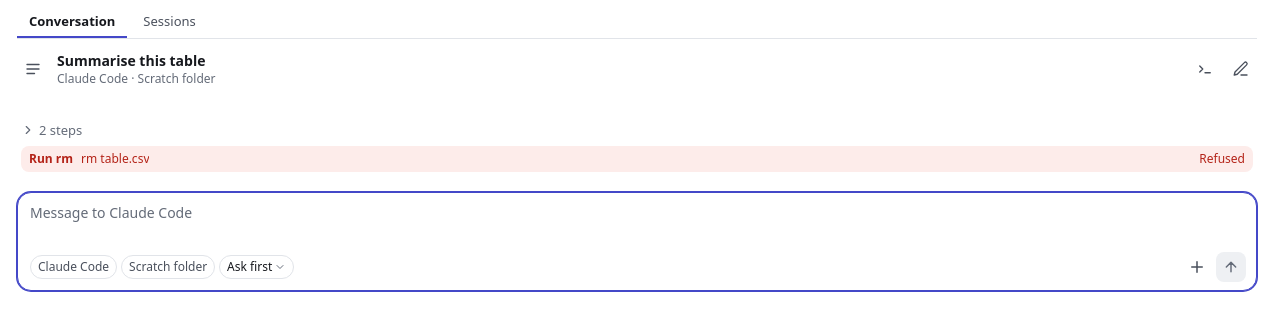
Test: T545 the Conversation tab › lists each action with what it is, its input and its latest status, marking one allowed by rule
Expected: the number of list items is 1, [21,146,1253,172]
Expected: the list named "Did not go through" shows "Refused", [1199,150,1245,167]
Click the button "2 steps" at (52, 130), box [21,118,82,142]
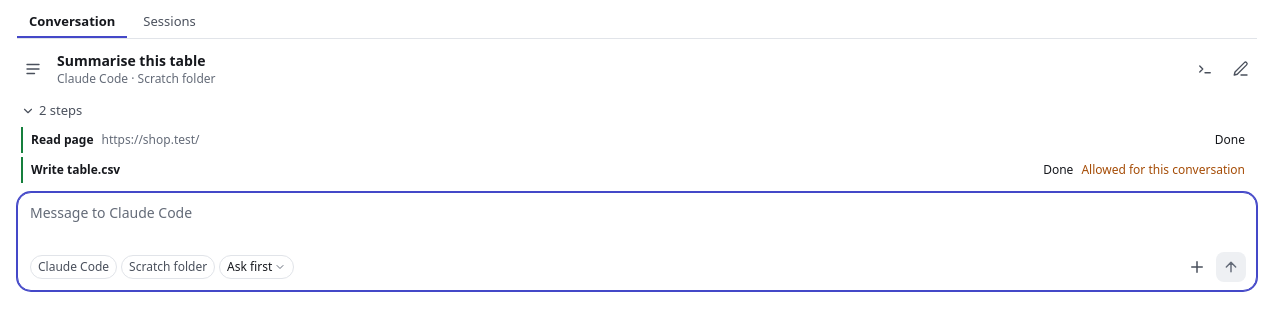
Expected: the number of list items is 2, [21,127,1253,153]; [21,157,1253,183]
Expected: the list item "Read page https://shop.test/ Done" is shown, [21,127,1253,153]
Expected: the list item "Write table.csv Done Allowed for this conversation" is shown, [21,157,1253,183]
